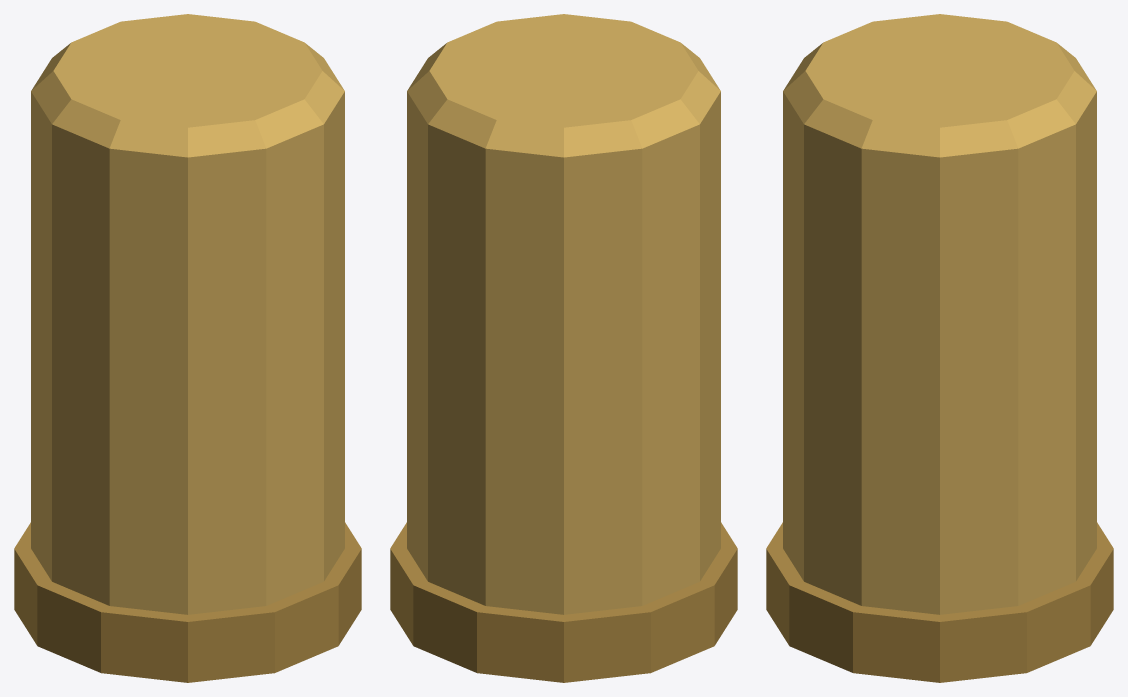
Rendered from shell_pistol.obj.
The picture shows the model from 3 angles, left to right: view 1: azimuth 30°, elevation 25°; view 2: azimuth 150°, elevation 25°; view 3: azimuth 270°, elevation 25°; orthographic projection.
Parts seen in each view (by area): view 1: shell_pistol; view 2: shell_pistol; view 3: shell_pistol.
Boxes of the visible parts, bbox=[...] form: shell_pistol: bbox=[14, 14, 361, 682]; shell_pistol: bbox=[390, 14, 737, 682]; shell_pistol: bbox=[766, 14, 1113, 682].
Size of the model in its own units: 0.31 by 0.53 by 0.31.
Materials: 1 (1 with a texture image).
